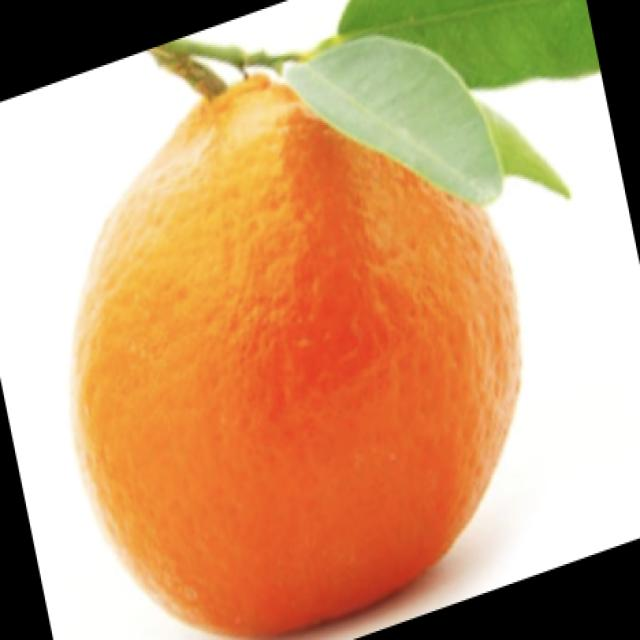matang: (69, 76, 514, 638)
